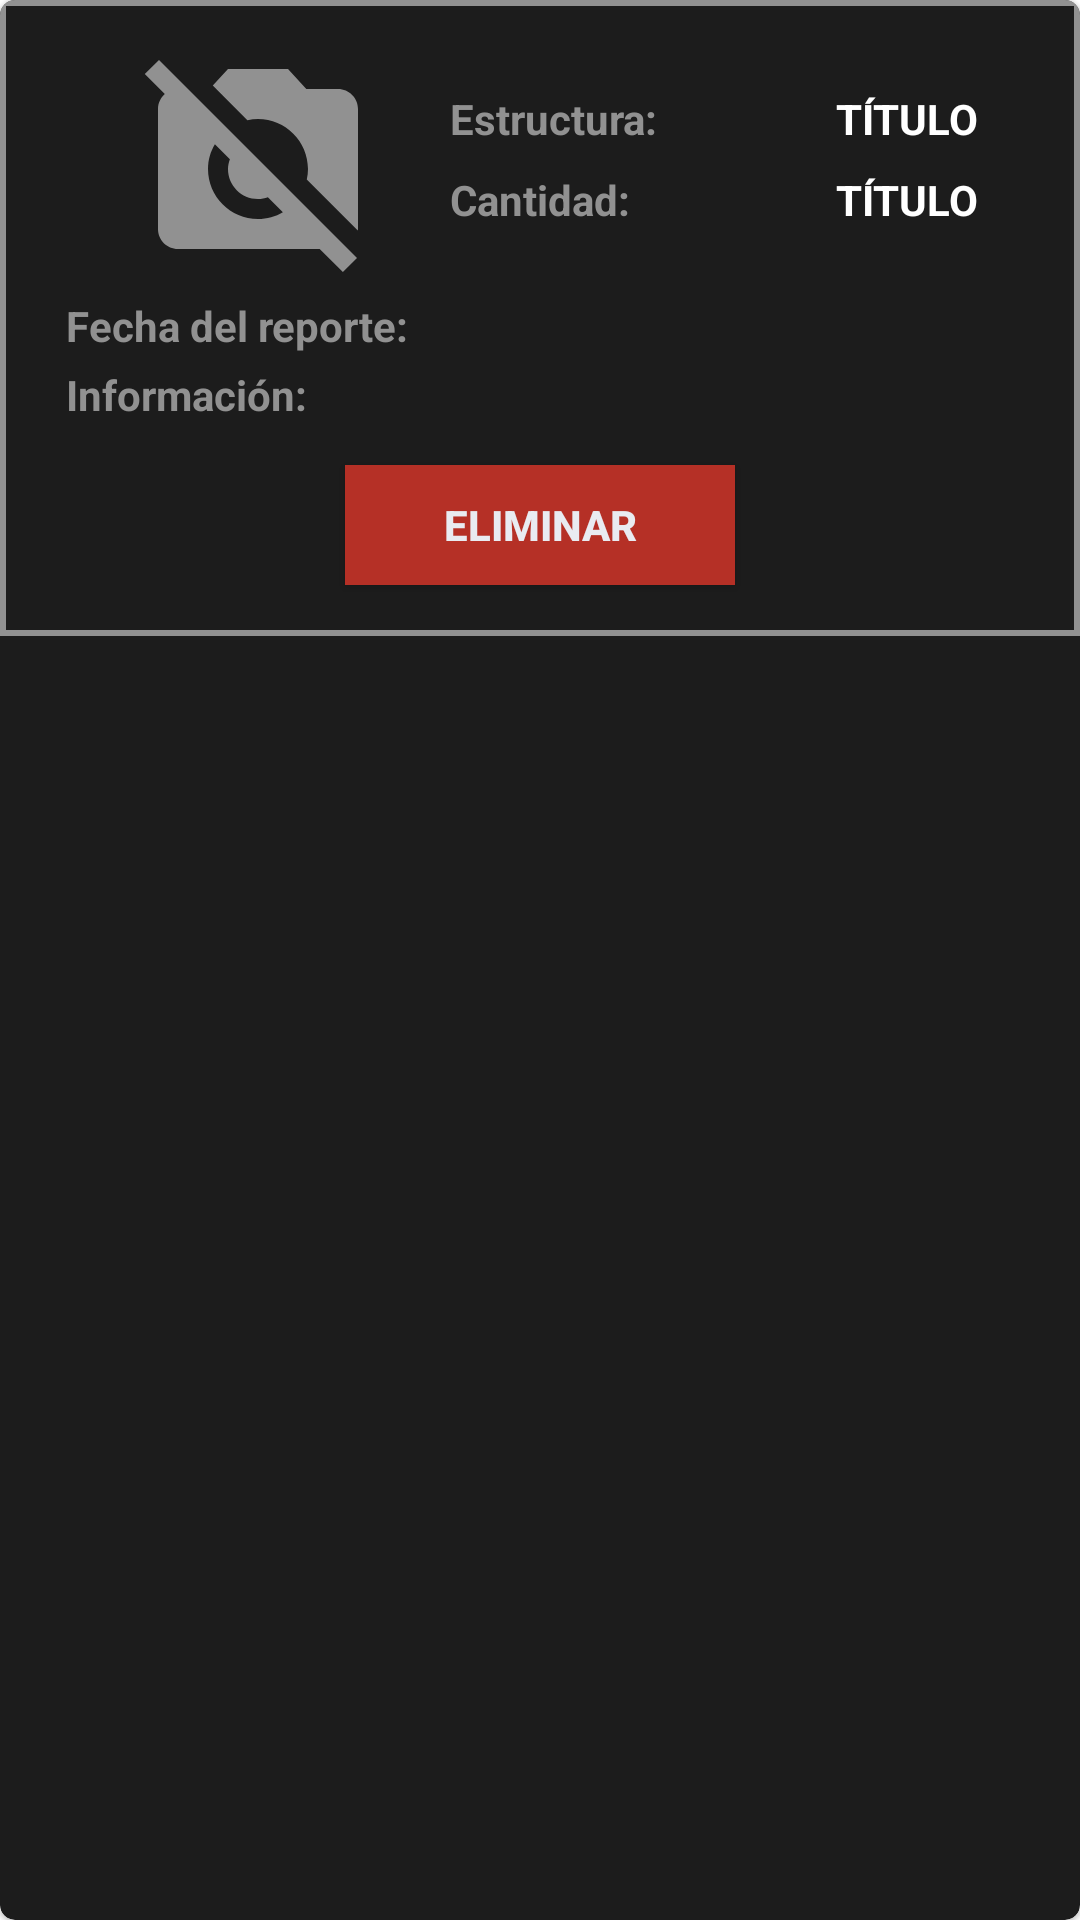

Point at icon controls on the screen. Image size 1080px x 1920px, points as point (x, y).
no photography: point (251, 166)
